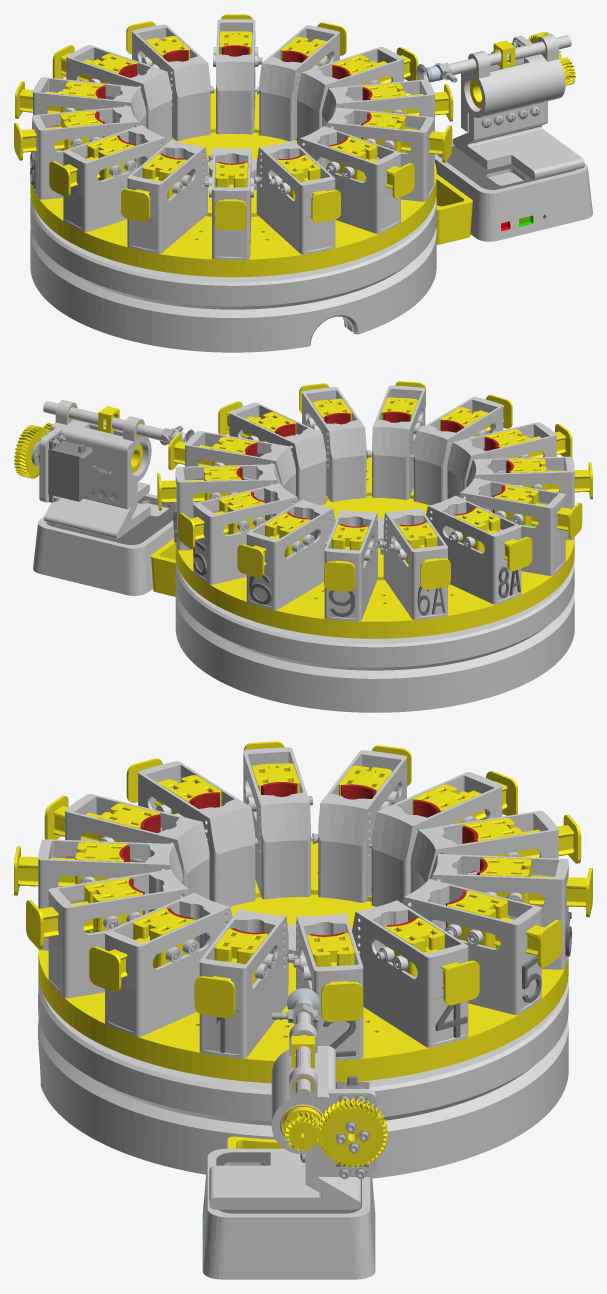
File: whole_assembly_asm.glb
3 views of the same model, one above another, from view 1: azimuth 30°, elevation 25°; view 2: azimuth 150°, elevation 25°; view 3: azimuth 270°, elevation 25° (orthographic). The views are drawn at different scales.
Visible parts, largest first — view 1: Node3, Node1, Node4, Node5, Node9, Node12, Node11; view 2: Node3, Node1, Node4, Node17, Node10, Node5, Node9, Node12, Node11, Node2; view 3: Node3, Node1, Node4, Node2, Node9, Node5, Node10, Node11, Node12.
Boxes of the visible parts, box(x1,y1,x2,y2) form: Node3: box(30, 19, 436, 352); Node1: box(14, 14, 538, 277); Node4: box(64, 34, 592, 241); Node5: box(436, 40, 575, 244); Node9: box(94, 45, 372, 164); Node12: box(437, 146, 576, 218); Node11: box(67, 39, 539, 192); Node3: box(175, 385, 574, 712); Node1: box(24, 381, 592, 638); Node4: box(33, 400, 546, 595); Node17: box(39, 432, 92, 502); Node10: box(173, 510, 520, 616); Node5: box(36, 406, 175, 596); Node9: box(236, 411, 513, 527); Node12: box(46, 496, 175, 544); Node11: box(35, 418, 539, 558); Node2: box(14, 425, 47, 478); Node3: box(38, 747, 568, 1178); Node1: box(14, 741, 592, 1126); Node4: box(80, 786, 535, 1279); Node2: box(318, 1098, 387, 1168); Node9: box(119, 782, 487, 936); Node5: box(227, 1036, 357, 1167); Node10: box(216, 912, 571, 1057); Node11: box(84, 790, 518, 1178); Node12: box(203, 1152, 361, 1231).
Size of the model in its own units: 483 by 145 by 349.
